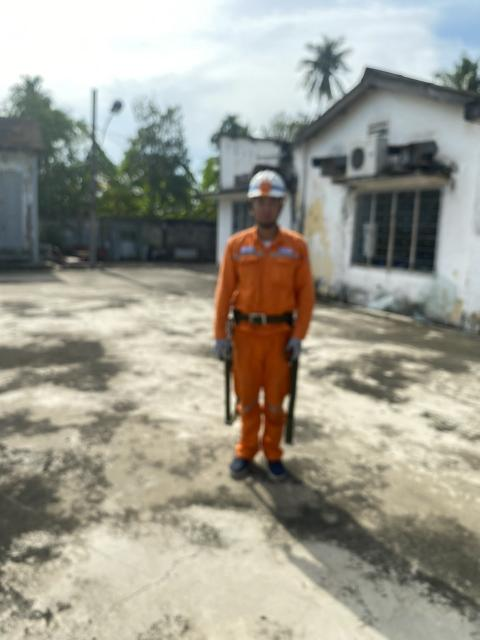harness: (225, 298, 297, 328)
helmet: (240, 164, 306, 211), (278, 337, 304, 362), (212, 338, 235, 363)
shoes: (226, 447, 253, 481), (264, 452, 291, 483)
